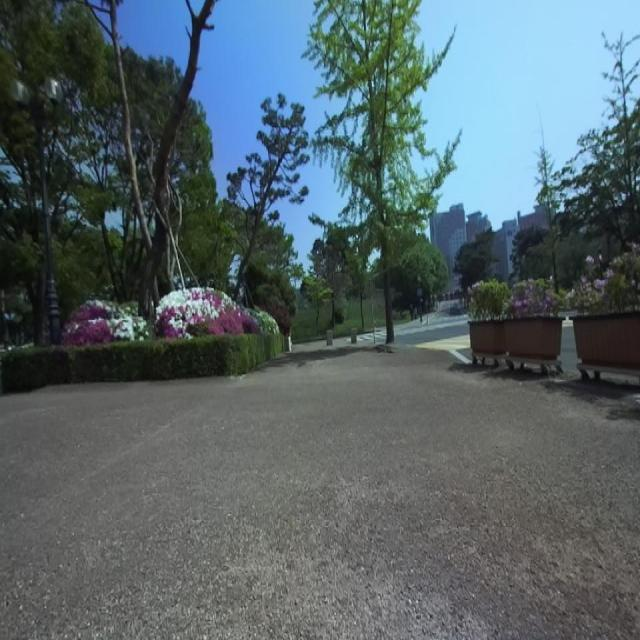sidewalk: (0, 345, 640, 638)
